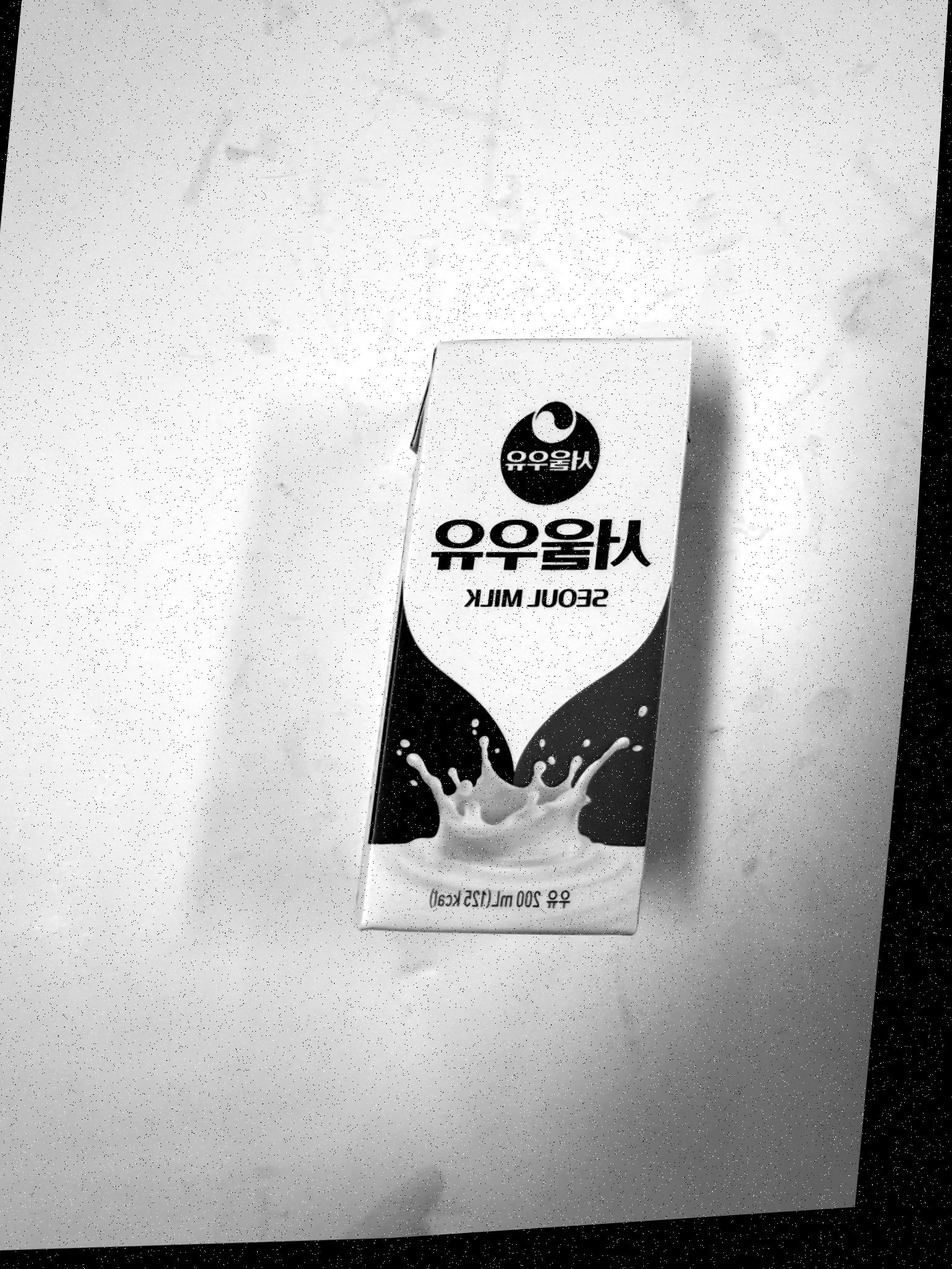milk_green: (361, 335, 693, 936)
